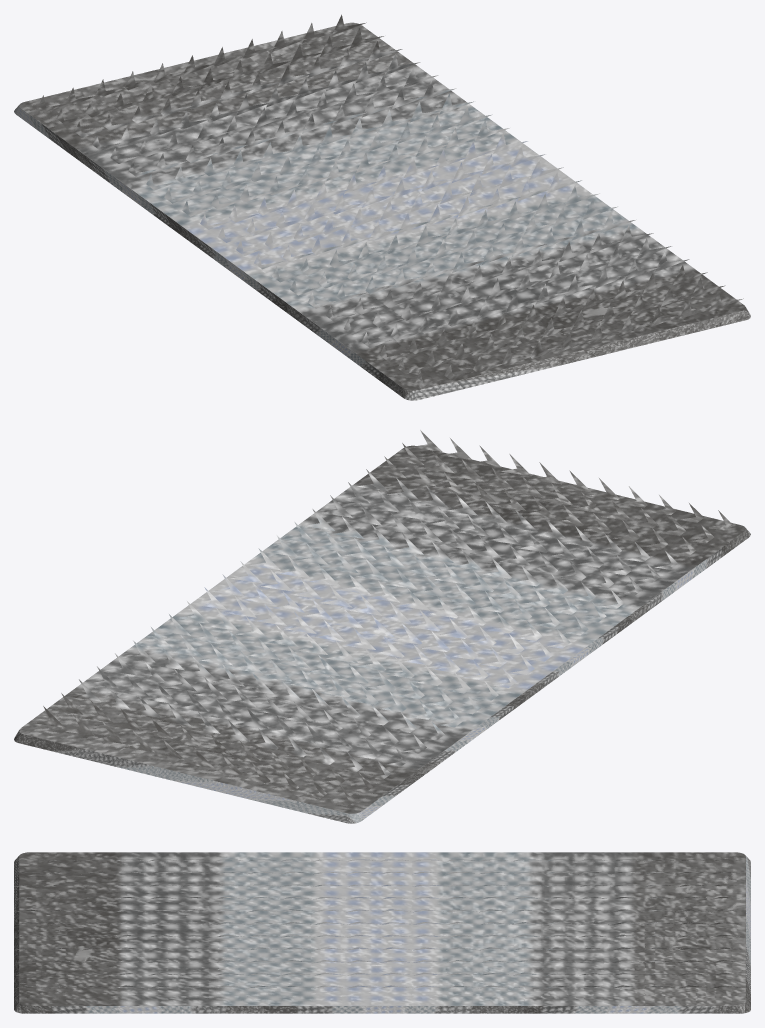
The model's file is bathmat.glb.
3 renders of one model, top to bottom at view 1: azimuth 30°, elevation 25°; view 2: azimuth 150°, elevation 25°; view 3: azimuth 270°, elevation 25°, orthographic. The views are drawn at different scales.
Parts seen in each view (by area): view 1: Merged, Plane.001, Cube.001; view 2: Merged, Cube.001, Plane.001; view 3: Merged, Cube.001, Plane.001.
Boxes of the visible parts, x1=… form: Merged: x1=14, y1=22, x2=750, y2=400; Plane.001: x1=38, y1=14, x2=743, y2=387; Cube.001: x1=15, y1=22, x2=750, y2=400; Merged: x1=14, y1=445, x2=750, y2=823; Cube.001: x1=15, y1=445, x2=749, y2=823; Plane.001: x1=33, y1=430, x2=731, y2=806; Merged: x1=14, y1=852, x2=750, y2=1013; Cube.001: x1=15, y1=852, x2=750, y2=1013; Plane.001: x1=14, y1=859, x2=741, y2=988.
Size of the model in its own units: 2.03 by 0.1237 by 4.06.
1 material, 1 textured.
